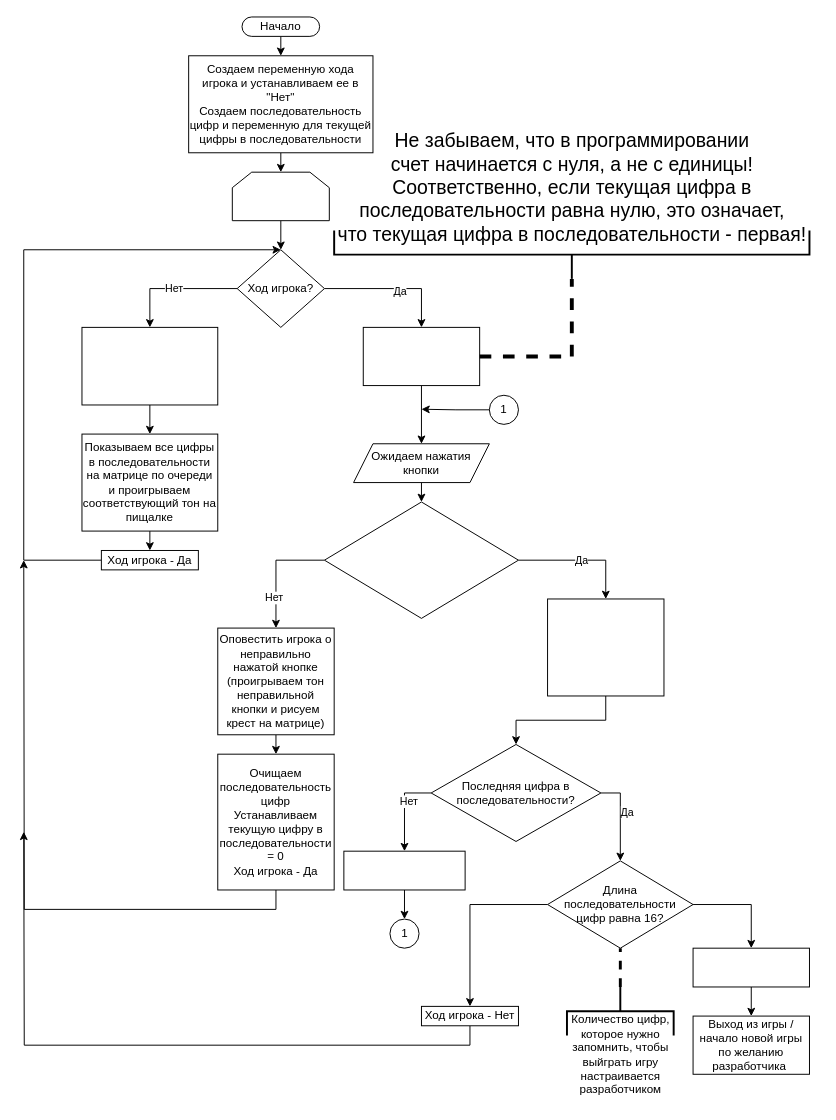
Image size: 836x1120. Some labels were removed from this diagram. The centre of each missing label's shape, as x and y in pixels:
"Бесконечный цикл" belongs at point (280, 196).
"Добавляем в последовательность цифр на запоминание случайное число" belongs at point (149, 365).
"Нажата кнопка соответствующая текущей цифре в последовательности?" belongs at point (420, 559).
"Поздравляем, ты выйграл!" belongs at point (750, 967).
"Проиграть соответствующий ей тон на пищалке и моргнуть светодиодной матрицей" belongs at point (605, 647).
"Следующая цифра в последовательности" belongs at point (404, 870).
"Текущая цифра в последовательности = 0" belongs at point (421, 356).
